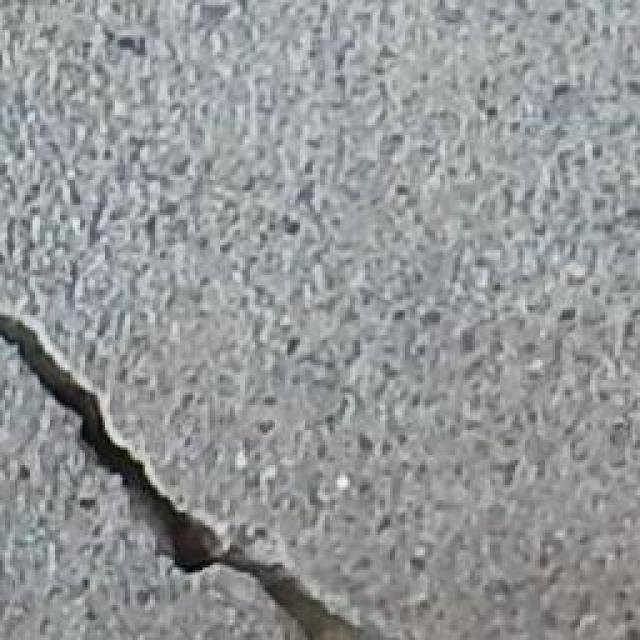concrete-crack: (0, 317, 396, 640)
